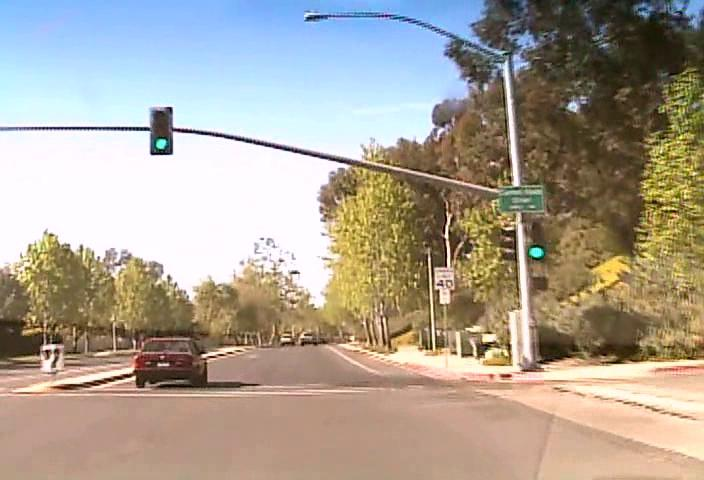speedLimit40: (434, 266, 455, 290)
